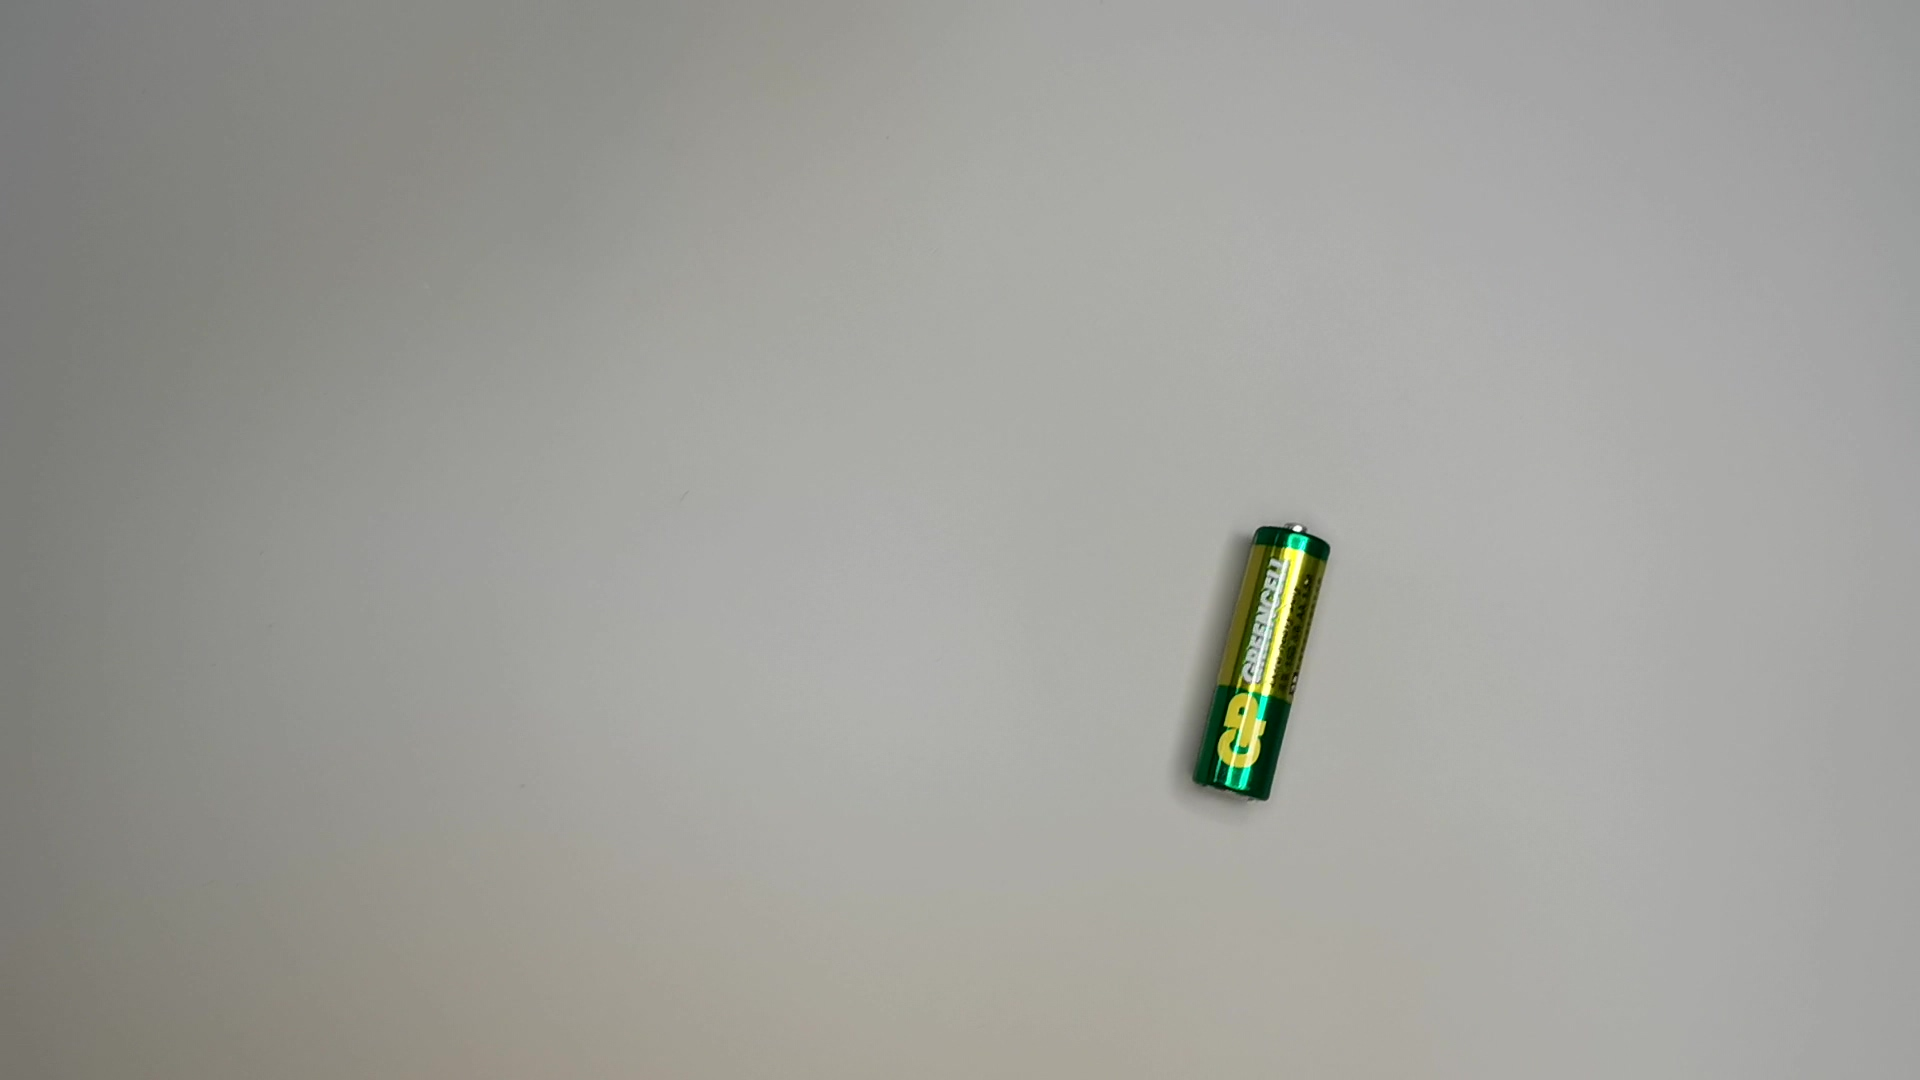battery: (1191, 517, 1340, 804)
